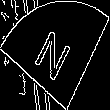N_SW: (32, 22, 78, 88)
